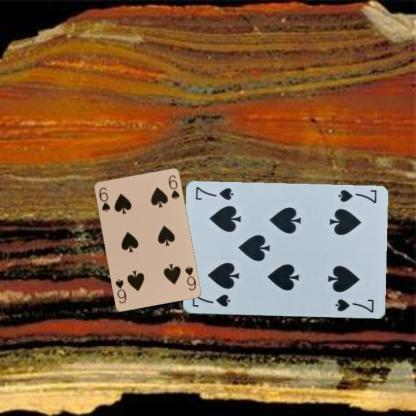6s: (96, 184, 111, 213), (182, 263, 197, 292)
7s: (189, 290, 232, 309), (335, 187, 378, 205)
